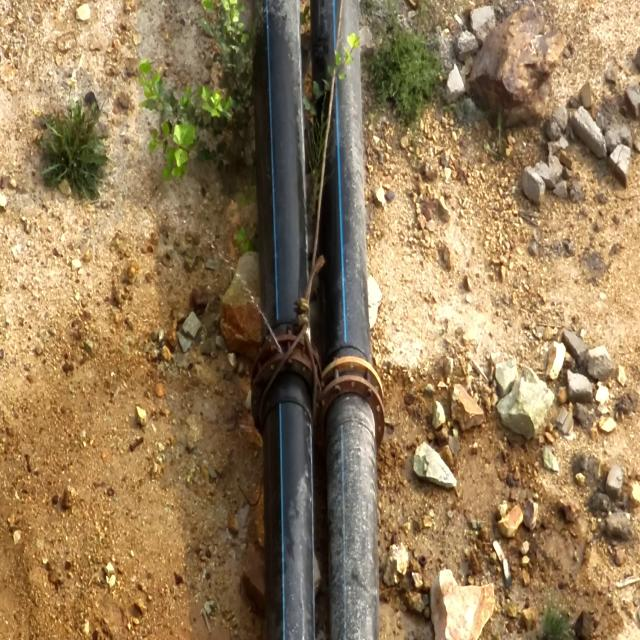leak: (175, 225, 288, 367)
